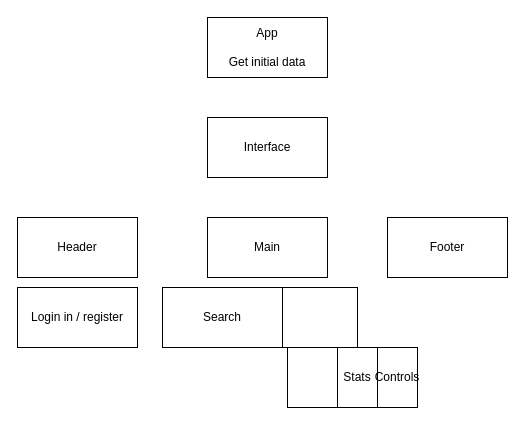
The diagram is 525 pixels wide and 425 high, and some of its shapes have lost their labels. Each missing label, with the centre of its shape:
Profile: [312,377]
Result: [320,317]
